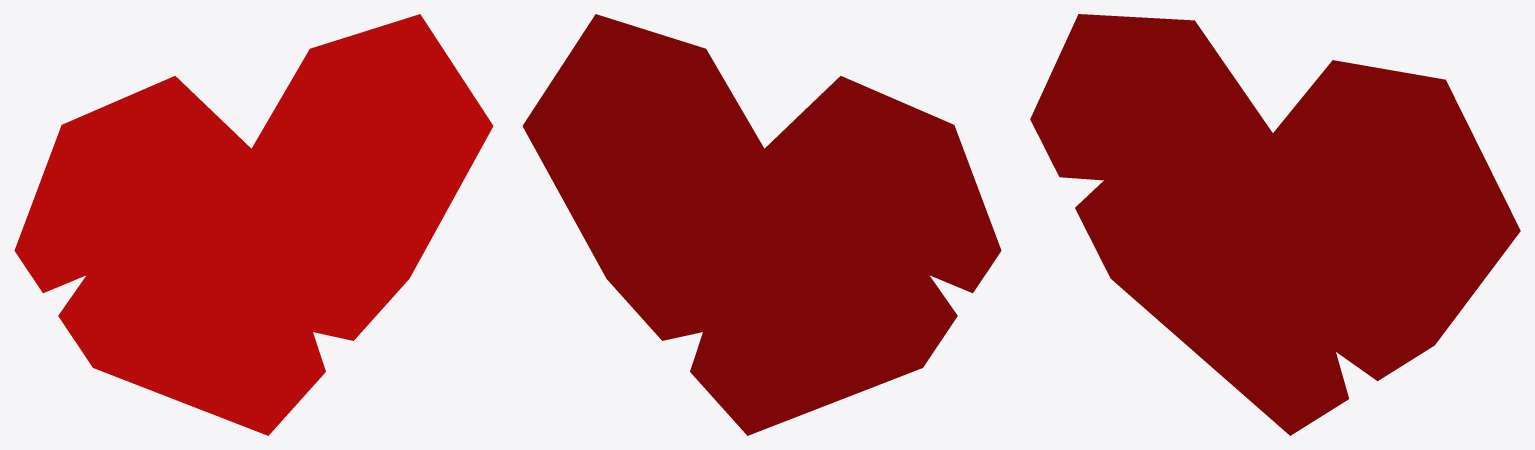
The model's file is EM_heart.FBX.
3 renders of one model, left to right at view 1: azimuth 30°, elevation 25°; view 2: azimuth 150°, elevation 25°; view 3: azimuth 330°, elevation 25°, orthographic. The views are drawn at different scales.
Parts seen in each view (by area): view 1: emoticon_heart; view 2: emoticon_heart; view 3: emoticon_heart.
Boxes of the visible parts, box(x1,y1,x2,y2) form: emoticon_heart: box(14, 14, 493, 435); emoticon_heart: box(522, 14, 1001, 435); emoticon_heart: box(1030, 14, 1520, 435).
Size of the model in its own units: 760 by 583 by 8.98e-05.
